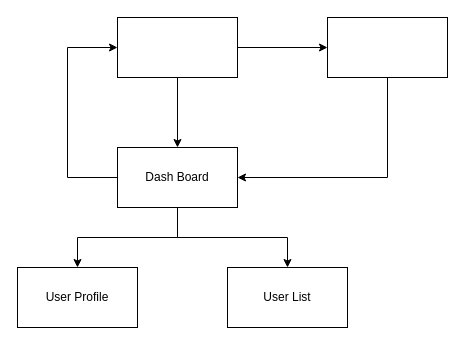
The diagram is 465 pixels wide and 345 high, and some of its shapes have lost their labels. The shapes that lost their labels are listed below. From the top down, each one's centre as x and y in pixels, then its label:
At (x=177, y=47): "Main/Login Page".
At (x=387, y=47): "Registration Page".
